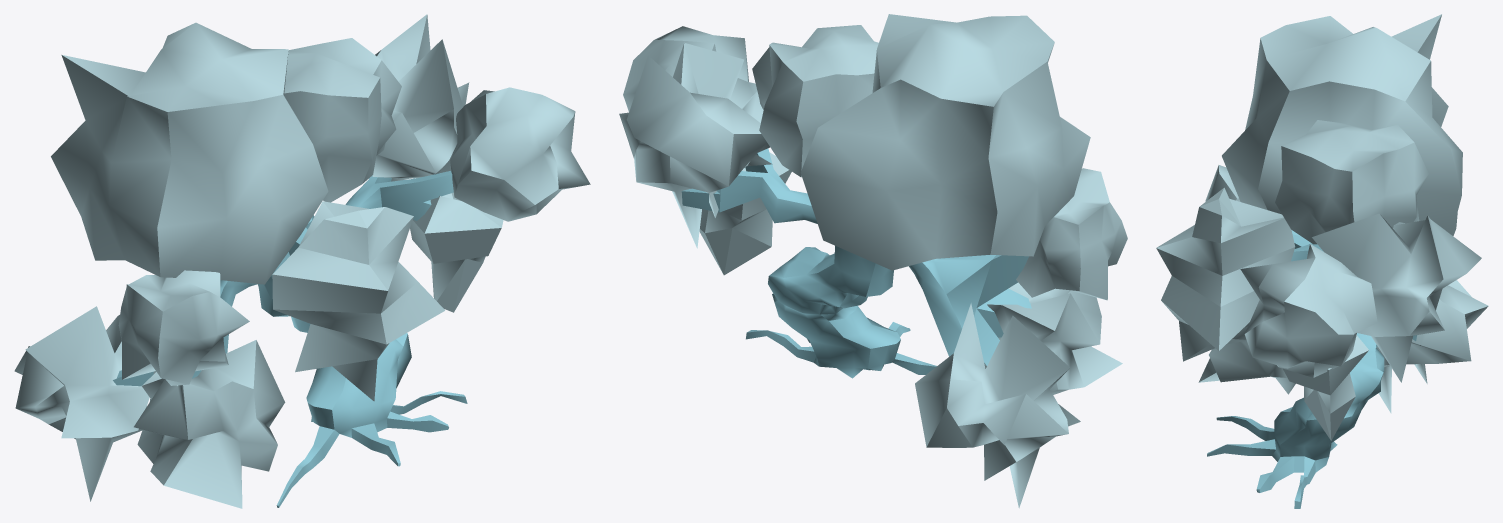
The model's file is oldPhoenixTree.fbx.
3 renders of one model, left to right at view 1: azimuth 30°, elevation 25°; view 2: azimuth 150°, elevation 25°; view 3: azimuth 270°, elevation 25°, orthographic. The views are drawn at different scales.
Parts seen in each view (by area): view 1: leaves5, leaves7, leaves2, trunk, leaves8, leaves3, leaves6, leaves1, leaves4, leaves9; view 2: leaves5, trunk, leaves3, leaves4, leaves6, leaves1, leaves2, leaves9, leaves8; view 3: leaves5, leaves6, leaves7, leaves4, leaves8, trunk, leaves3, leaves9, leaves2, leaves1.
Part boxes in pixels (x1,y1,x2,y2): leaves5: (51,22,328,284); leaves7: (272,201,444,401); leaves2: (134,340,285,508); trunk: (113,171,467,507); leaves8: (450,87,590,221); leaves3: (14,306,149,501); leaves6: (284,38,401,202); leaves1: (118,270,249,385); leaves4: (372,14,469,181); leaves9: (410,192,503,312); leaves5: (800,14,1090,270); trunk: (681,148,1031,378); leaves3: (915,303,1080,508); leaves4: (619,43,772,248); leaves6: (752,25,878,177); leaves1: (1016,168,1127,300); leaves2: (987,282,1122,394); leaves9: (699,152,791,275); leaves8: (623,26,757,111); leaves5: (1222,14,1462,235); leaves6: (1275,120,1428,244); leaves7: (1156,187,1295,361); leaves4: (1312,213,1481,382); leaves8: (1240,244,1377,377); trunk: (1207,230,1417,508); leaves3: (1376,280,1488,413); leaves9: (1283,335,1368,440); leaves2: (1198,340,1295,394); leaves1: (1205,165,1240,201).
Bounding box in the file's own units: 69.33 × 61.83 × 43.33.
